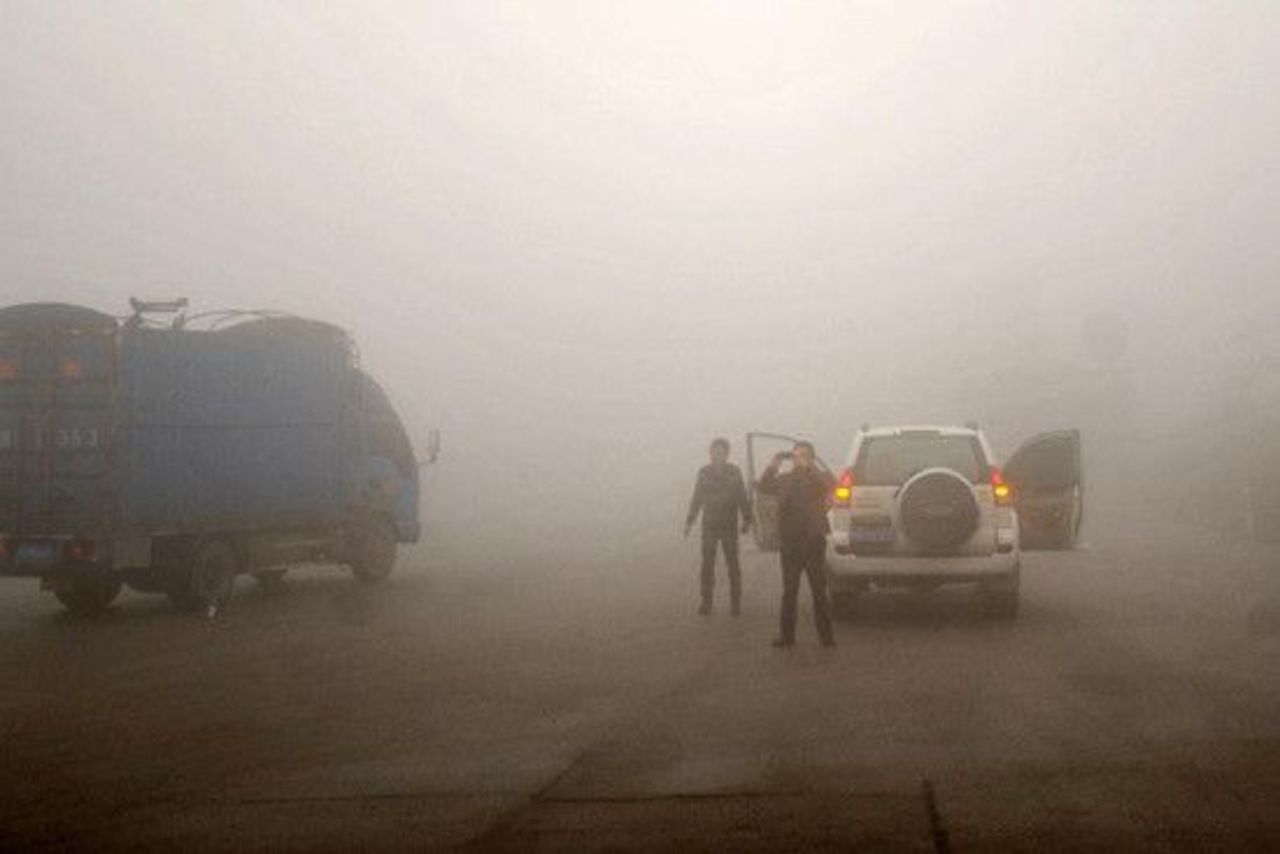car: (746, 429, 1089, 619)
person: (758, 433, 846, 653), (684, 440, 752, 613)
truck: (0, 303, 419, 616)
